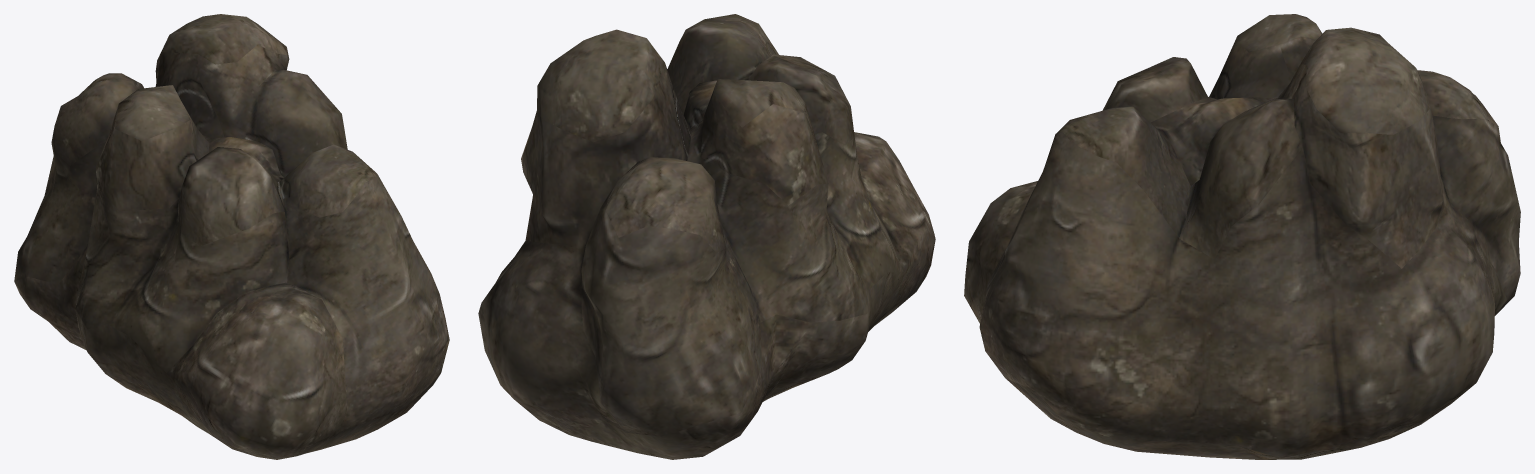
Rendered from stalagmite_collumn_03.dae.
The picture shows the model from 3 angles, left to right: view 1: azimuth 30°, elevation 25°; view 2: azimuth 150°, elevation 25°; view 3: azimuth 270°, elevation 25°; orthographic projection. The views are drawn at different scales.
Visible parts, largest first — view 1: stalagmite_small_03__2_; view 2: stalagmite_small_03__2_; view 3: stalagmite_small_03__2_.
Part boxes in pixels (bbox=[...]): stalagmite_small_03__2_: bbox=[14, 14, 449, 459]; stalagmite_small_03__2_: bbox=[478, 14, 935, 459]; stalagmite_small_03__2_: bbox=[964, 14, 1520, 459].
Size of the model in its own units: 0.7802 by 0.9067 by 1.14.
